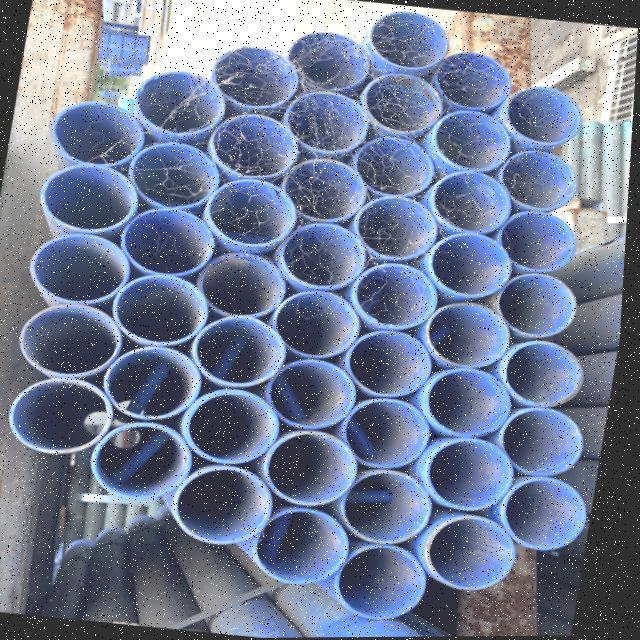pipe: (182, 464, 282, 547), (97, 419, 196, 497), (46, 161, 146, 236), (263, 504, 357, 583), (27, 302, 127, 376), (36, 231, 137, 304), (186, 389, 284, 464), (18, 376, 117, 449), (120, 271, 217, 345), (269, 431, 363, 507), (343, 548, 436, 624), (428, 513, 521, 589), (198, 315, 293, 389), (108, 345, 203, 418), (347, 468, 437, 544), (59, 97, 151, 171), (430, 438, 520, 513), (509, 475, 596, 552), (209, 176, 302, 247), (126, 204, 219, 274), (348, 397, 438, 468), (274, 359, 363, 430), (279, 220, 369, 290), (280, 156, 371, 225), (434, 229, 522, 299), (431, 368, 515, 441), (349, 329, 436, 399), (275, 292, 364, 360), (507, 406, 591, 478), (212, 111, 302, 178), (430, 299, 516, 369), (359, 261, 446, 330), (362, 191, 445, 262), (141, 71, 230, 137), (507, 338, 590, 407), (200, 251, 288, 316), (132, 140, 221, 204), (213, 42, 303, 104), (424, 50, 516, 110), (504, 271, 585, 339), (433, 166, 513, 233), (354, 136, 440, 198), (293, 29, 377, 92), (366, 7, 454, 67), (501, 204, 581, 270), (287, 91, 372, 153), (363, 73, 450, 133), (439, 108, 516, 175), (503, 148, 578, 212), (508, 85, 586, 146)
